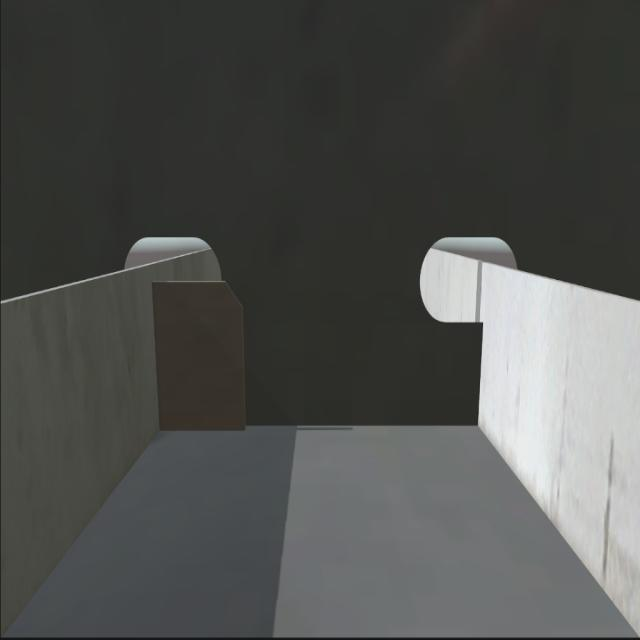fillet_yong_jeop_jang: (154, 414, 491, 438)
longi_yong_jeop_jang: (148, 273, 166, 435), (471, 316, 491, 424)
plate_CP01: (152, 278, 247, 435)
